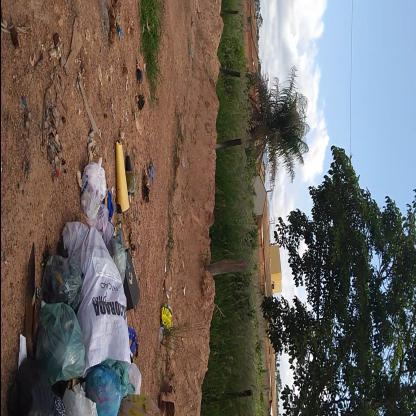lixo: (2, 140, 139, 415)
